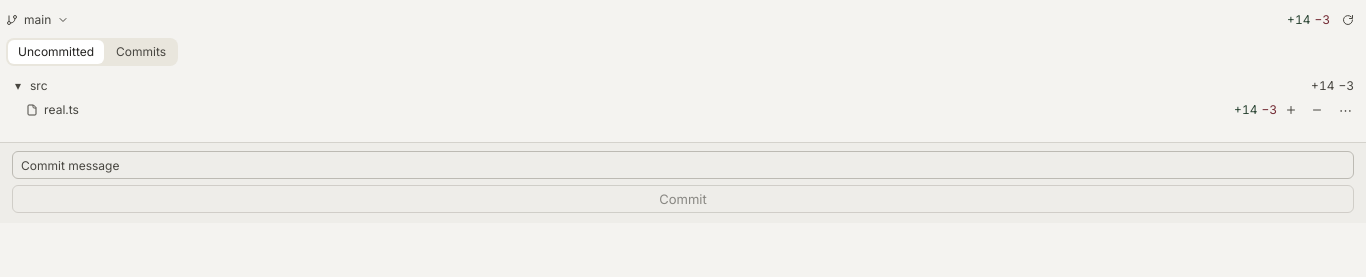
Test: ChangesSurface › keeps the last reply on screen when a later read is refused
Expected: the button titled "src/real.ts" is shown, [6, 98, 1232, 122]
Click the button named "Refresh": (1348, 20) [1336, 8, 1360, 32]
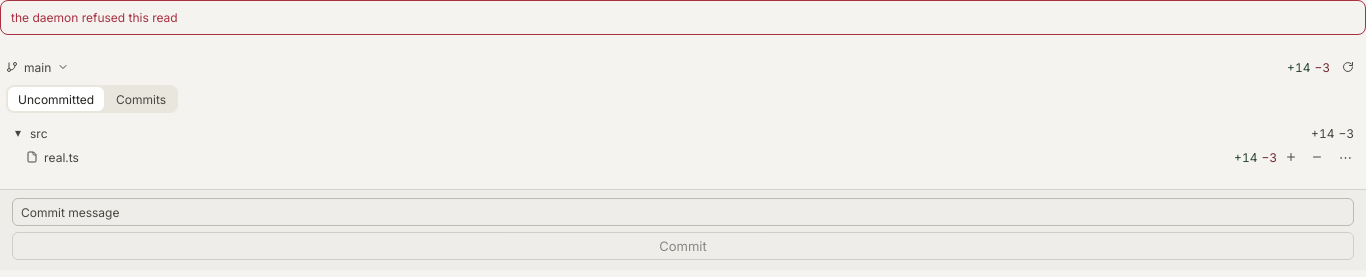
Expected: the button titled "src/real.ts" is shown, [6, 145, 1232, 169]
Now the message "the daemon refused this read" is shown, box [0, 0, 1365, 35]
